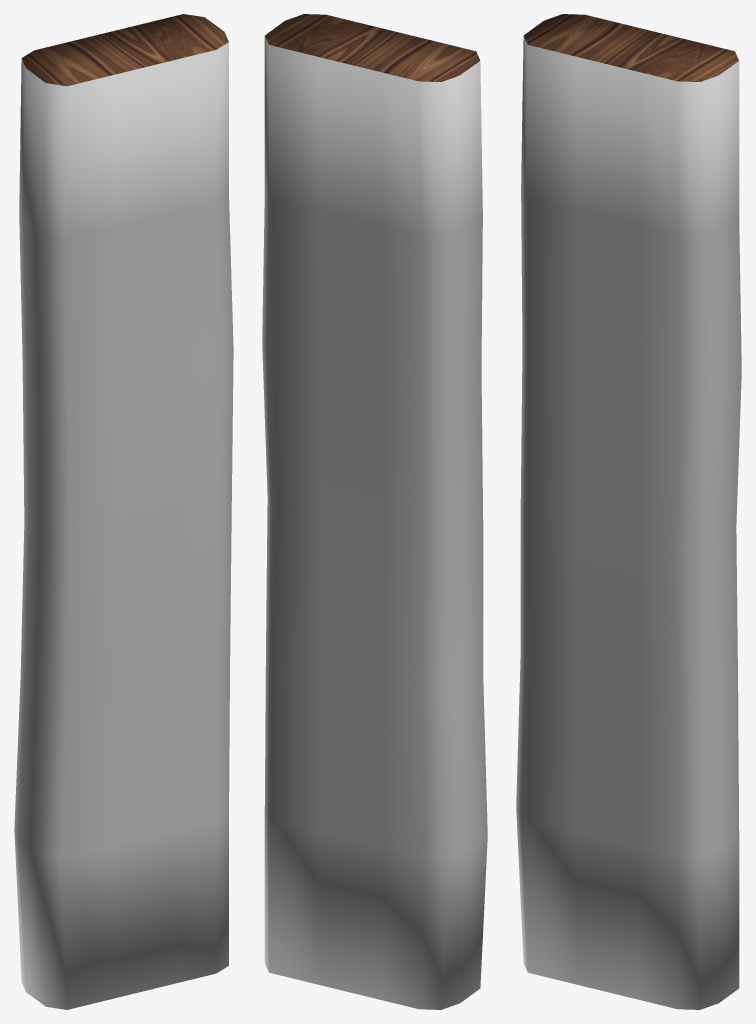
Rendered from Wood_Planck.fbx.
3 views of the same model, side by side, from view 1: azimuth 30°, elevation 25°; view 2: azimuth 150°, elevation 25°; view 3: azimuth 330°, elevation 25° (orthographic).
Visible parts, largest first — view 1: Cube; view 2: Cube; view 3: Cube.
Boxes of the visible parts, x1,y1,x2,y2 form: Cube: (14,14,233,1009); Cube: (262,14,487,1009); Cube: (516,14,741,1009).
Bounding box in the file's own units: 111 × 494 × 46.33.
